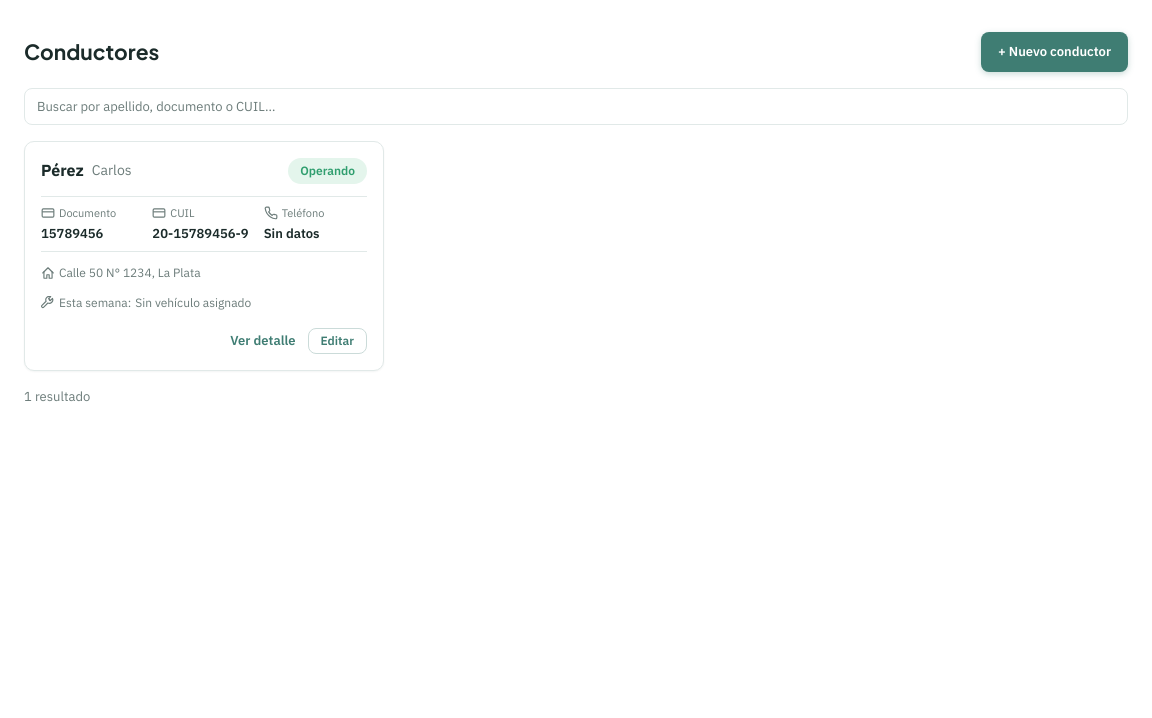
Test case: ConductoresPage — deduplicación de la flota entre componentes hermanos (tasks.md 3.3) › monta listado y detalle pidiendo la flota UNA sola vez, no dos
# Abrir el detalle monta AsignacionSemanalTabla, el segundo consumidor de la flota.
Click the text "Pérez": coordinates (62, 170) [41, 158, 84, 182]
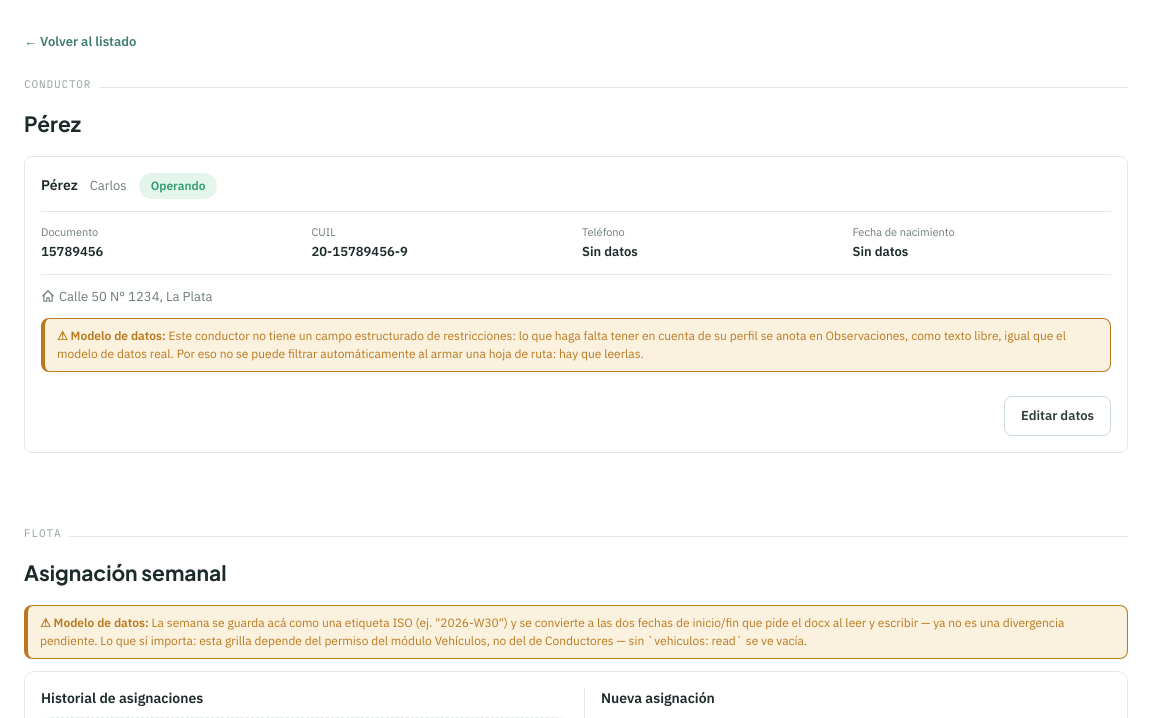
Expected: the button "Editar datos" is shown, [1004, 396, 1111, 436]
